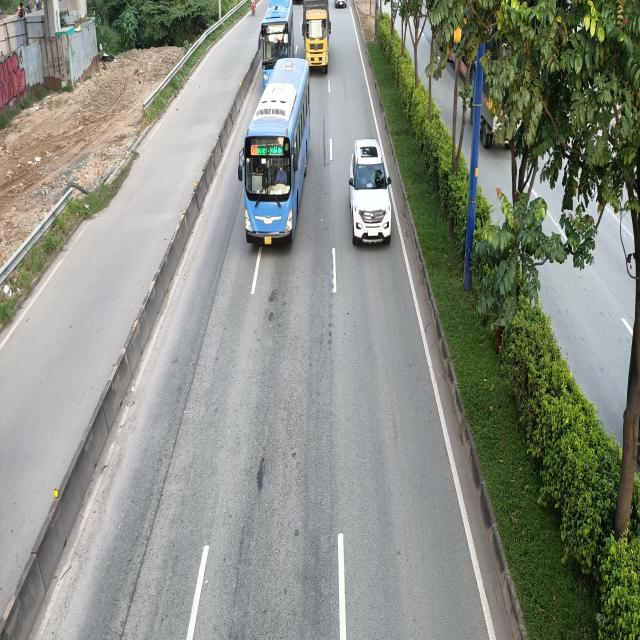car: (347, 142, 391, 248)
coach: (240, 62, 314, 244), (259, 2, 294, 88)
truck: (300, 0, 329, 70)
